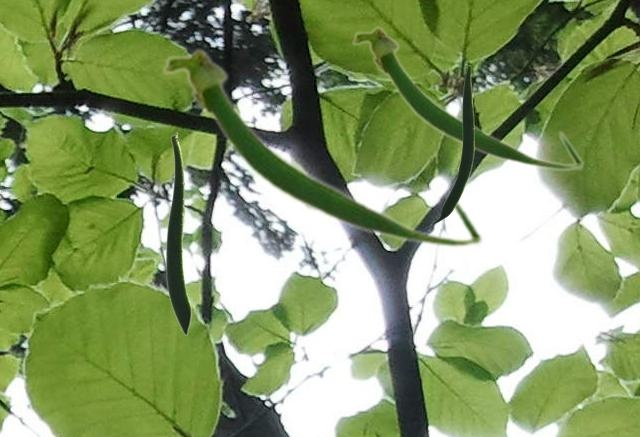french_bean: (160, 45, 484, 249), (350, 24, 584, 171), (430, 64, 473, 223), (165, 132, 191, 335)
